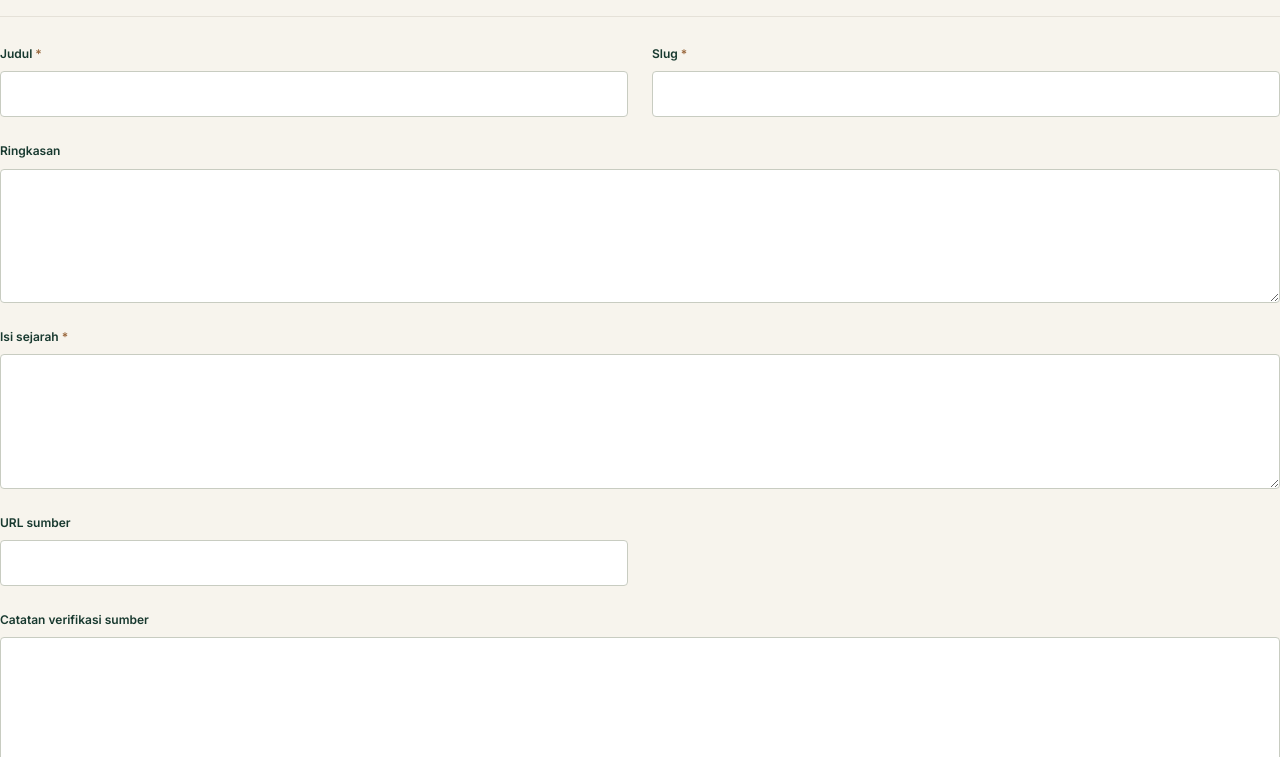
Test: form menolak slug berbahaya sebelum memanggil server
Type "Narasi yang diperiksa" into the field labelled "Judul" at (314, 94), box [0,71,628,118]
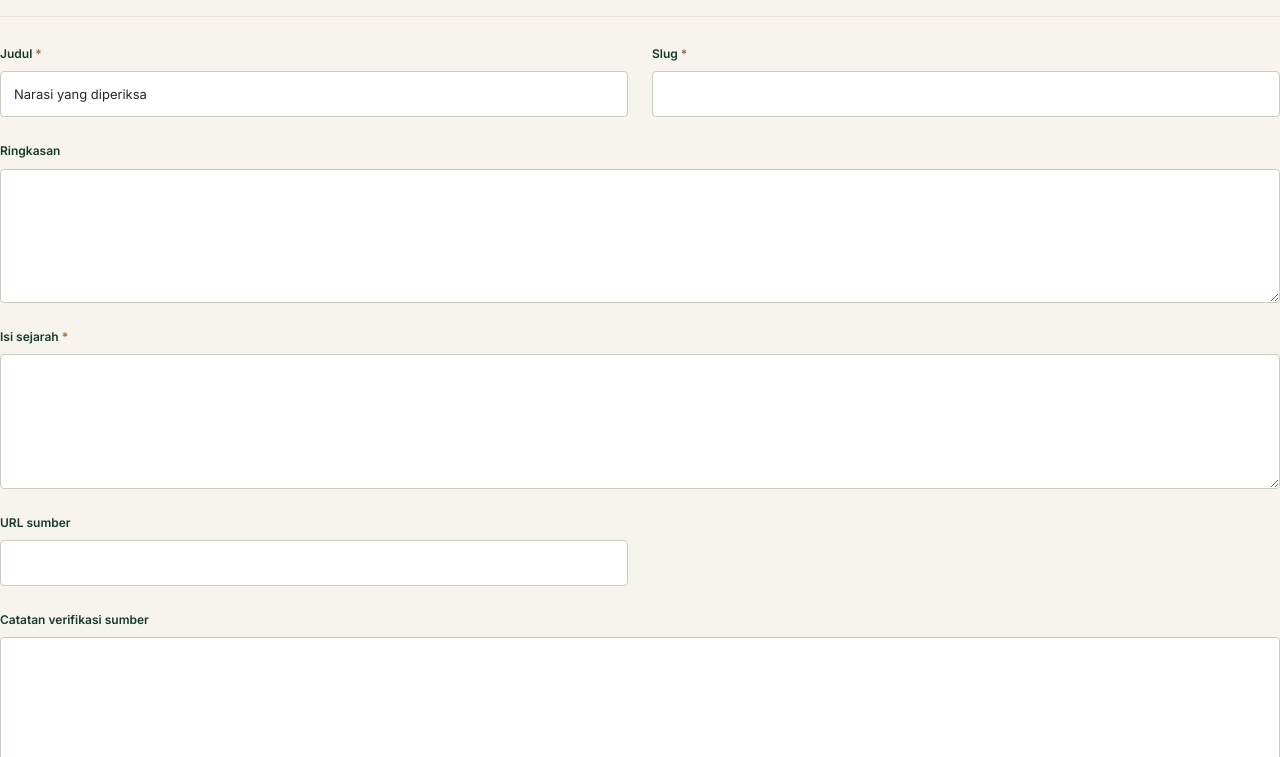
Type "narasi-diperiksa" into the field labelled "Slug" at (966, 94), box [652,71,1279,118]
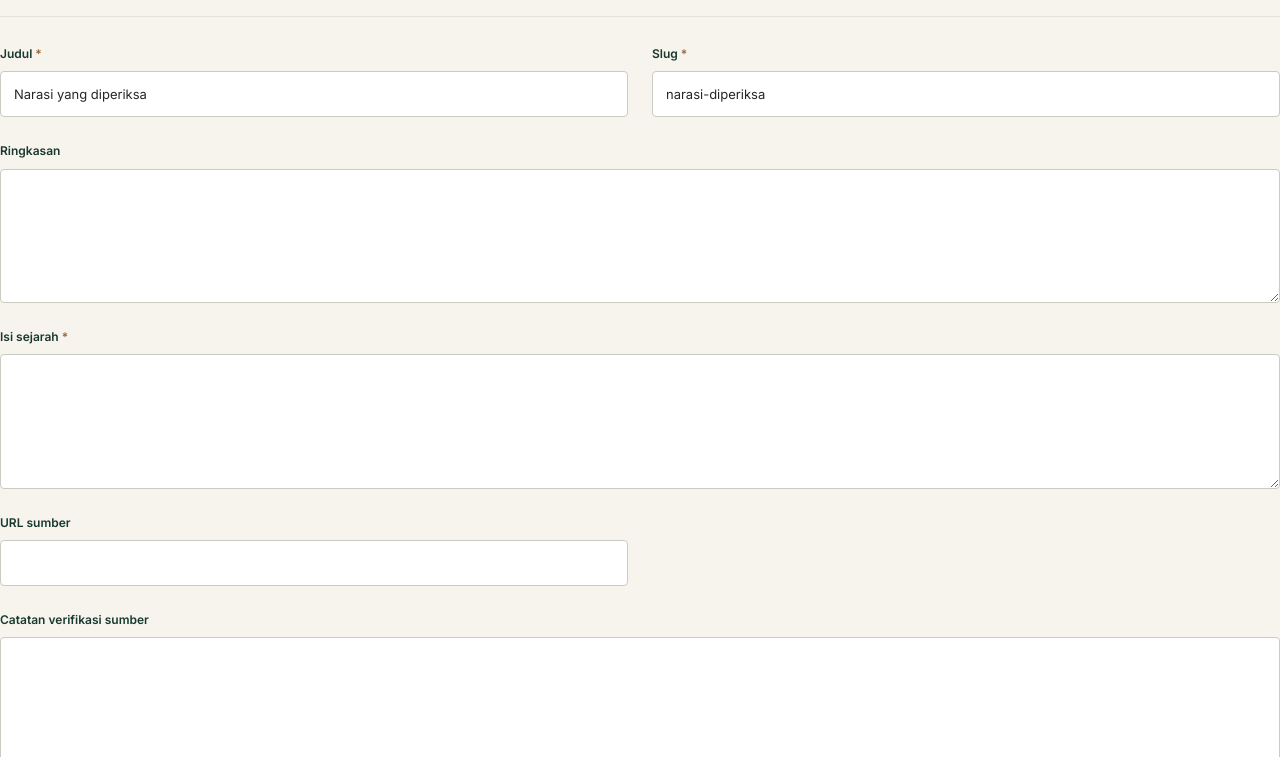
Type "Teks sejarah untuk pengujian form." into the text box labelled "Isi sejarah" at (640, 422), box [0,354,1279,489]
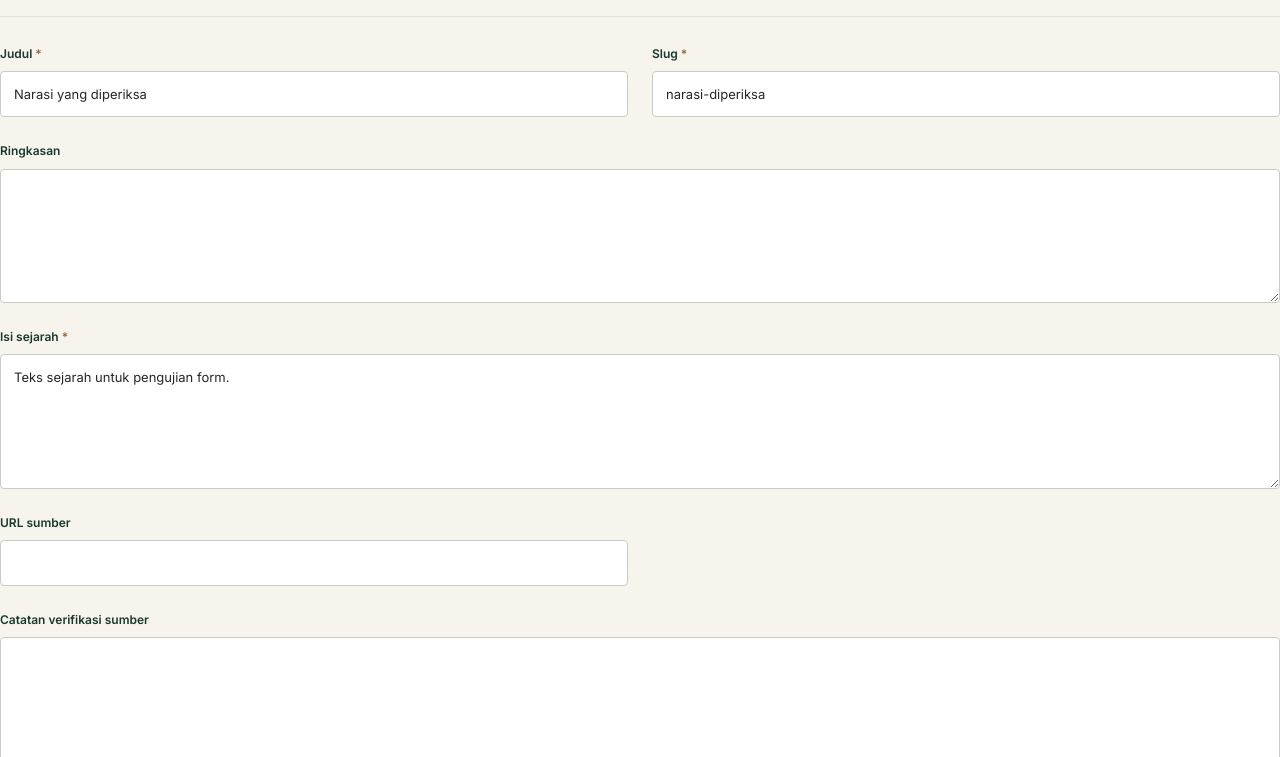
Replace the text in the field labelled "Slug" with "../invalid" at (966, 94), box [652,71,1279,118]
(page scrolled)
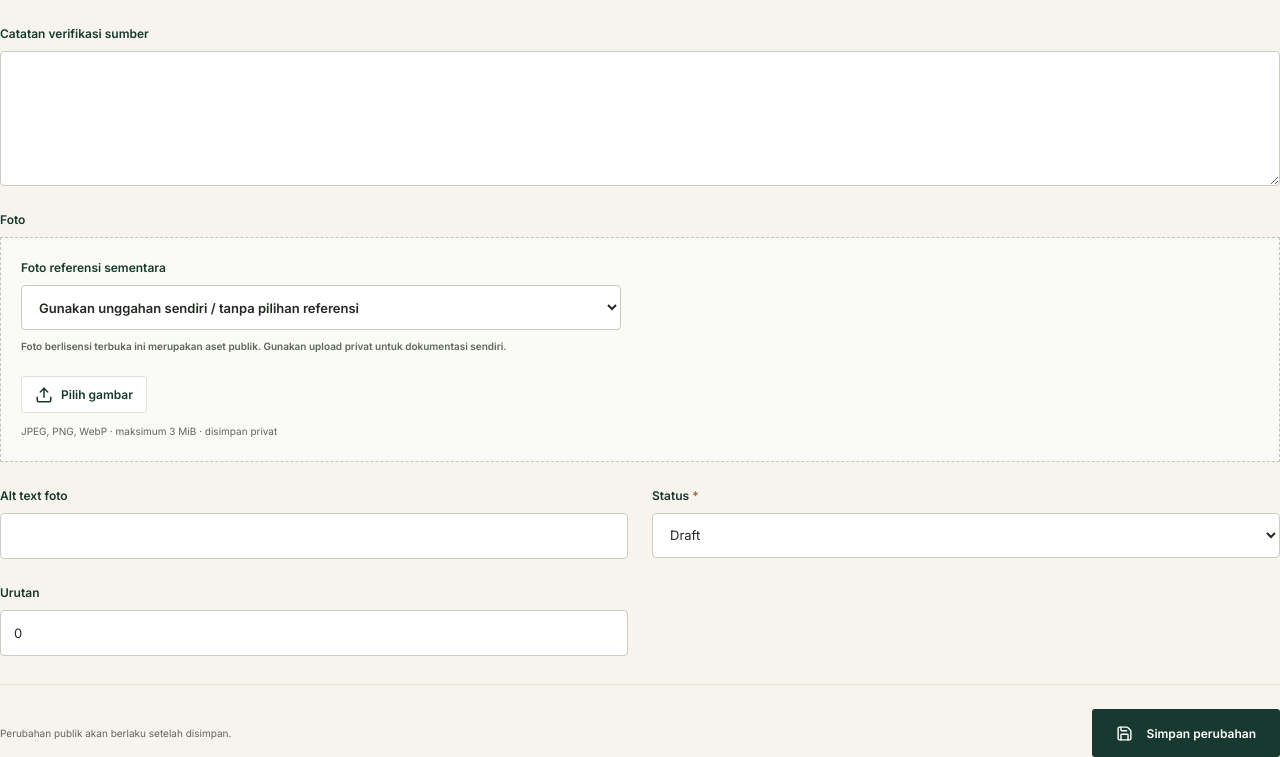
Click the button "Simpan perubahan" at (1186, 733), box [1092,709,1279,756]
(page scrolled)
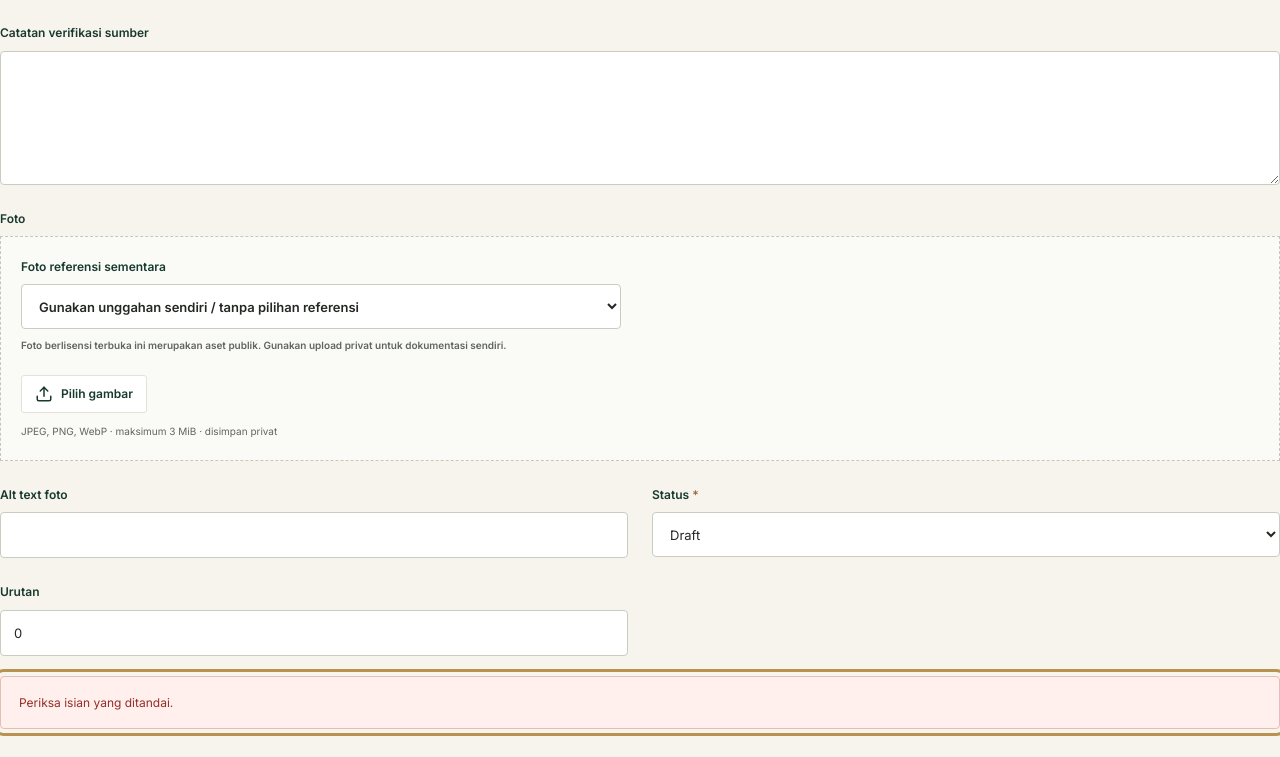
Now the message shows "Periksa isian", box [19,695,173,710]
